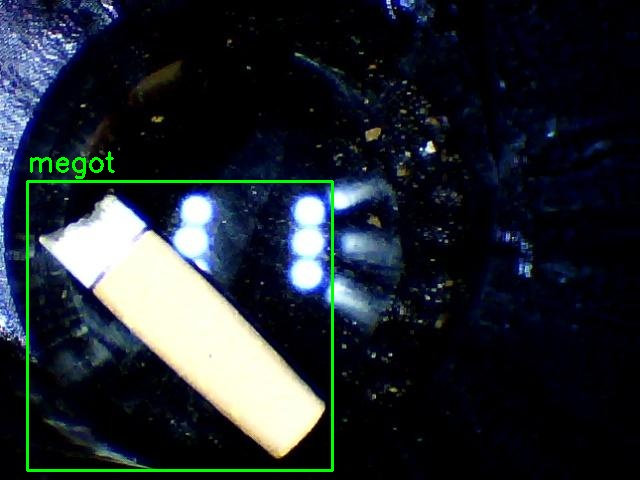megot: (27, 181, 332, 470)
